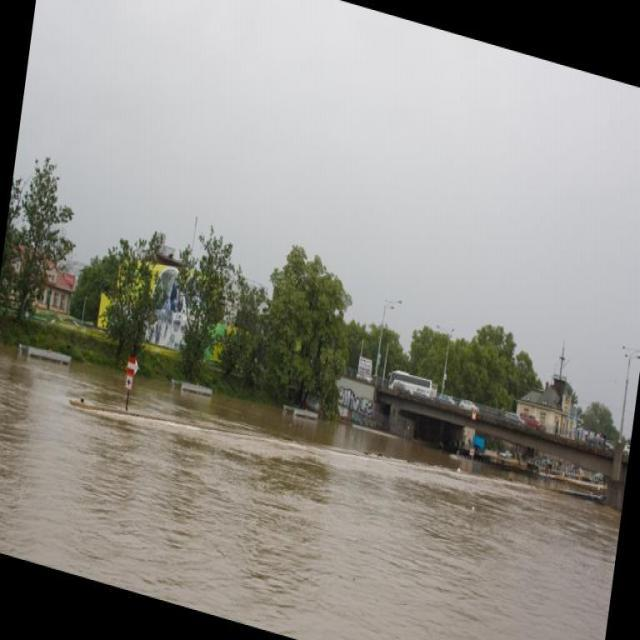flood: (0, 296, 626, 639)
